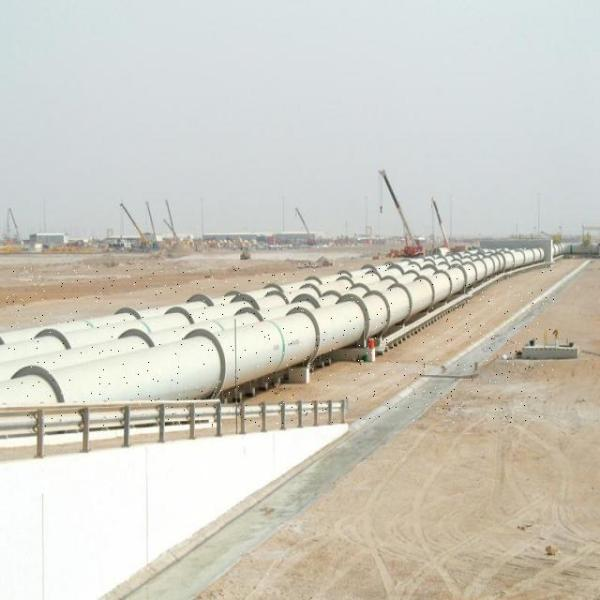water: (78, 320, 280, 372)
